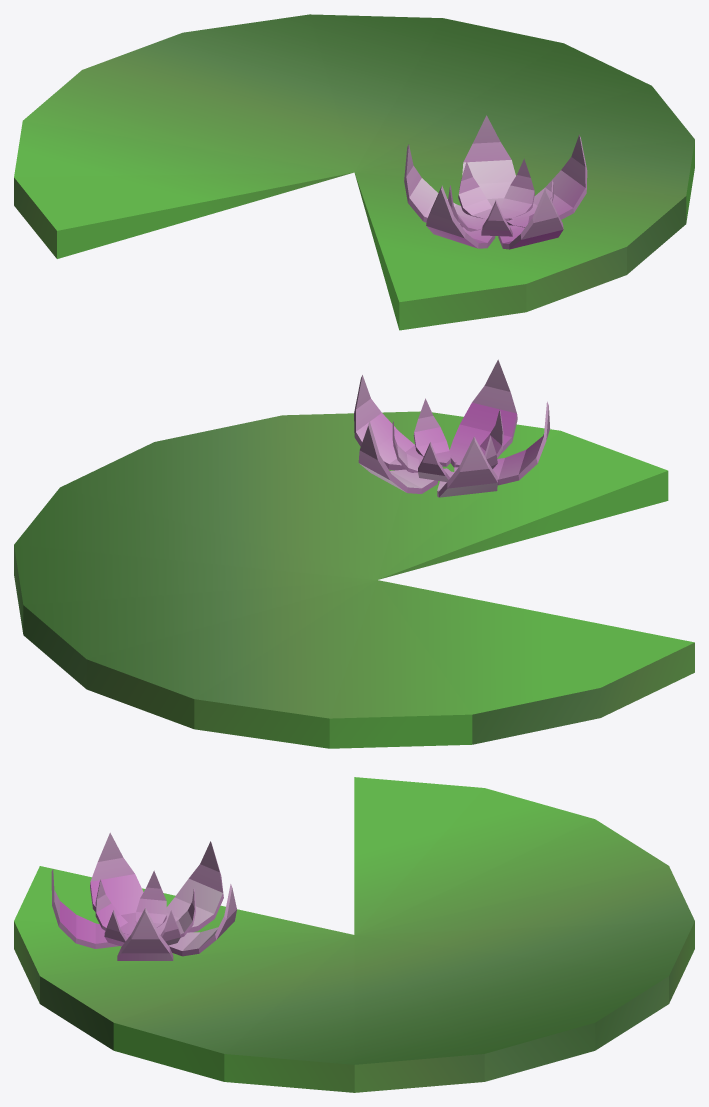
File: LilypadWithFlower.fbx
The picture shows the model from 3 angles, top to bottom: view 1: azimuth 30°, elevation 25°; view 2: azimuth 150°, elevation 25°; view 3: azimuth 270°, elevation 25°; orthographic projection. The views are drawn at different scales.
Parts seen in each view (by area): view 1: Circle.005; view 2: Circle.005; view 3: Circle.005.
Part boxes in pixels (x1,y1,x2,y2): Circle.005: (14, 14, 694, 330); Circle.005: (14, 359, 694, 748); Circle.005: (14, 777, 694, 1092).
Size of the model in its own units: 200 by 32.23 by 200.
